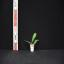leaf: (31, 33, 36, 44), (32, 40, 39, 45), (24, 40, 31, 44), (33, 41, 37, 45), (28, 42, 31, 45)
